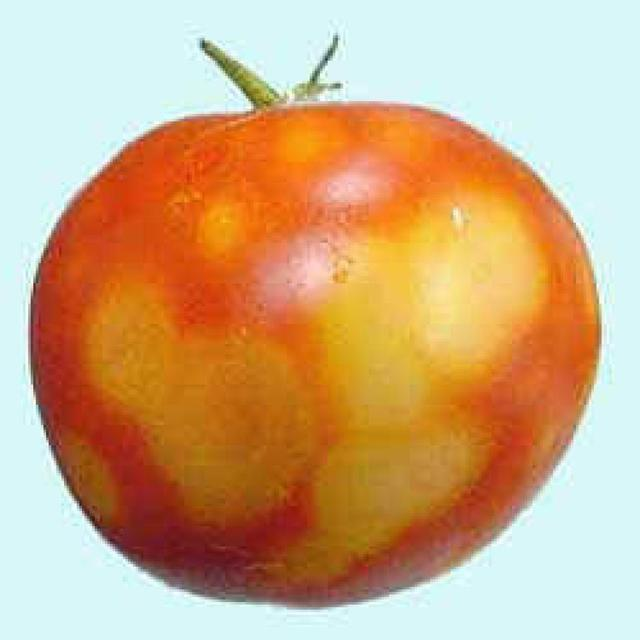Spotted wilt Virus Fruit: (27, 51, 48, 239)
